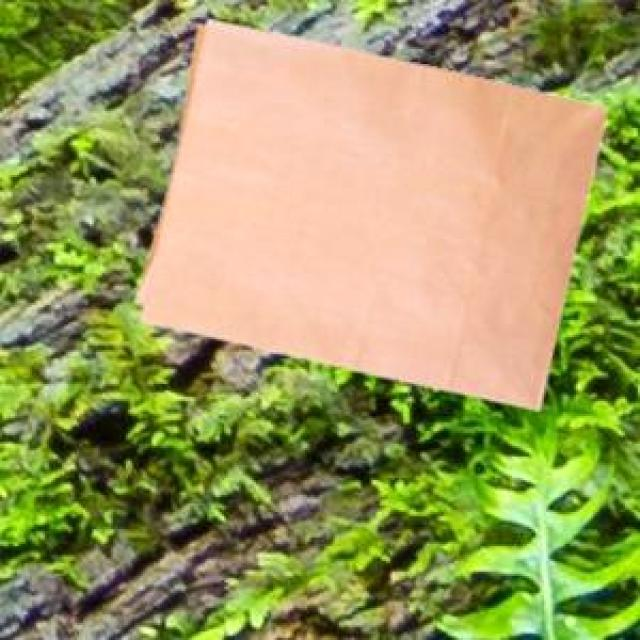Paper_Bag: (133, 16, 605, 407)
